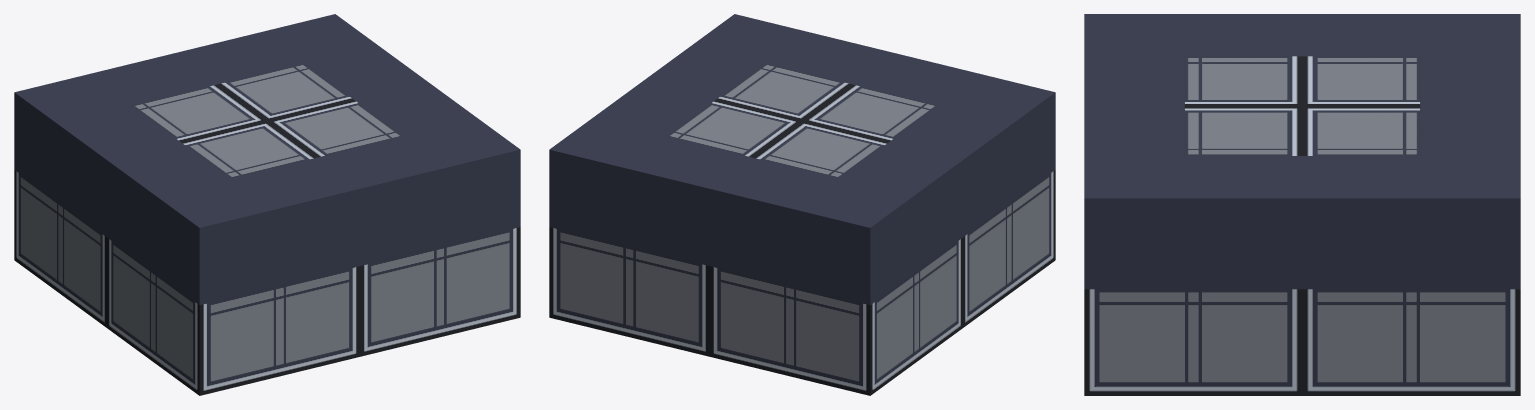
The model's file is platform2x2.glb.
3 renders of one model, left to right at view 1: azimuth 30°, elevation 25°; view 2: azimuth 150°, elevation 25°; view 3: azimuth 270°, elevation 25°, orthographic. The views are drawn at different scales.
Parts seen in each view (by area): view 1: platform_2x2; view 2: platform_2x2; view 3: platform_2x2.
Part boxes in pixels (left/top/right/bottom): platform_2x2: left=14, top=14, right=520, bottom=395; platform_2x2: left=549, top=14, right=1055, bottom=395; platform_2x2: left=1084, top=14, right=1520, bottom=395.
Size of what is drawn, in the model's own units: 2 by 1 by 2.
2 materials, 2 textured.
